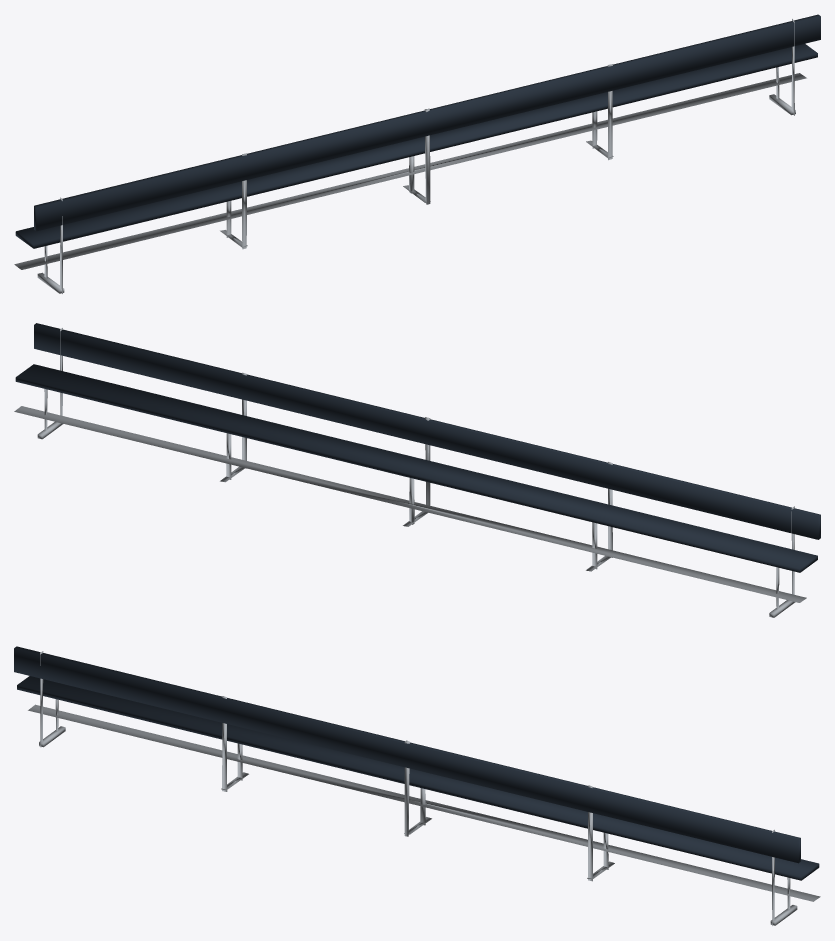
The model's file is bench_lod2.glb.
3 renders of one model, top to bottom at view 1: azimuth 30°, elevation 25°; view 2: azimuth 150°, elevation 25°; view 3: azimuth 330°, elevation 25°, orthographic.
Visible parts, largest first — view 1: bench__tint_team_primary, bench__prop_steel; view 2: bench__tint_team_primary, bench__prop_steel; view 3: bench__tint_team_primary, bench__prop_steel.
Boxes of the visible parts, x1,y1,x2,y2 form: bench__tint_team_primary: (15, 14, 820, 248); bench__prop_steel: (14, 19, 806, 293); bench__tint_team_primary: (15, 323, 820, 572); bench__prop_steel: (14, 328, 806, 617); bench__tint_team_primary: (14, 646, 819, 880); bench__prop_steel: (28, 651, 820, 925).
Size of the model in its own units: 7.3 by 0.845 by 0.375.
